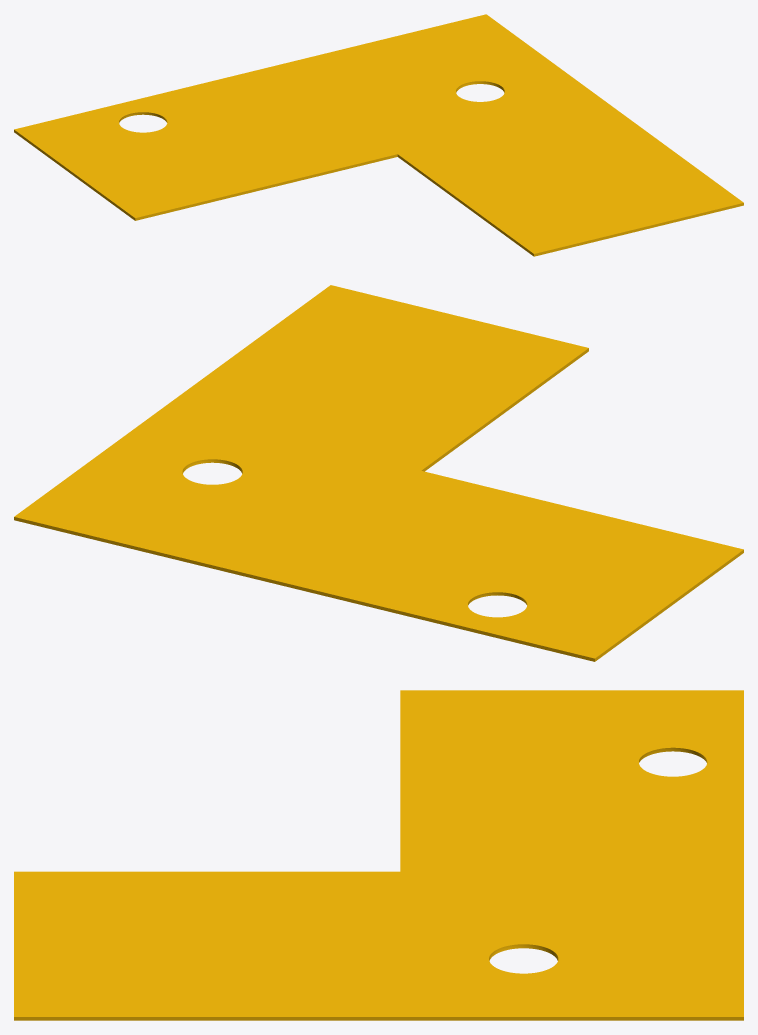
3 renders of one model, top to bottom at view 1: azimuth 30°, elevation 25°; view 2: azimuth 150°, elevation 25°; view 3: azimuth 270°, elevation 25°, orthographic. The views are drawn at different scales.
Parts seen in each view (by area): view 1: LEVEL; view 2: LEVEL; view 3: LEVEL.
Boxes of the visible parts, x1,y1,x2,y2 form: LEVEL: (14,14,743,256); LEVEL: (14,285,743,661); LEVEL: (14,690,743,1020).
Size of the model in its own units: 90 by 0.5 by 85.
